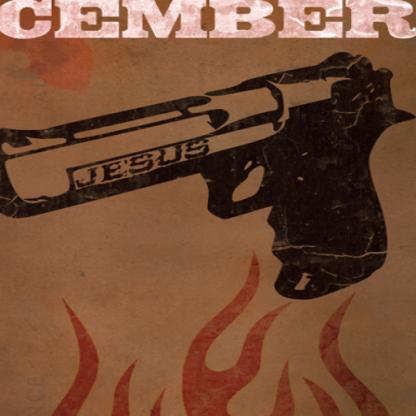gun: (0, 47, 415, 303)
